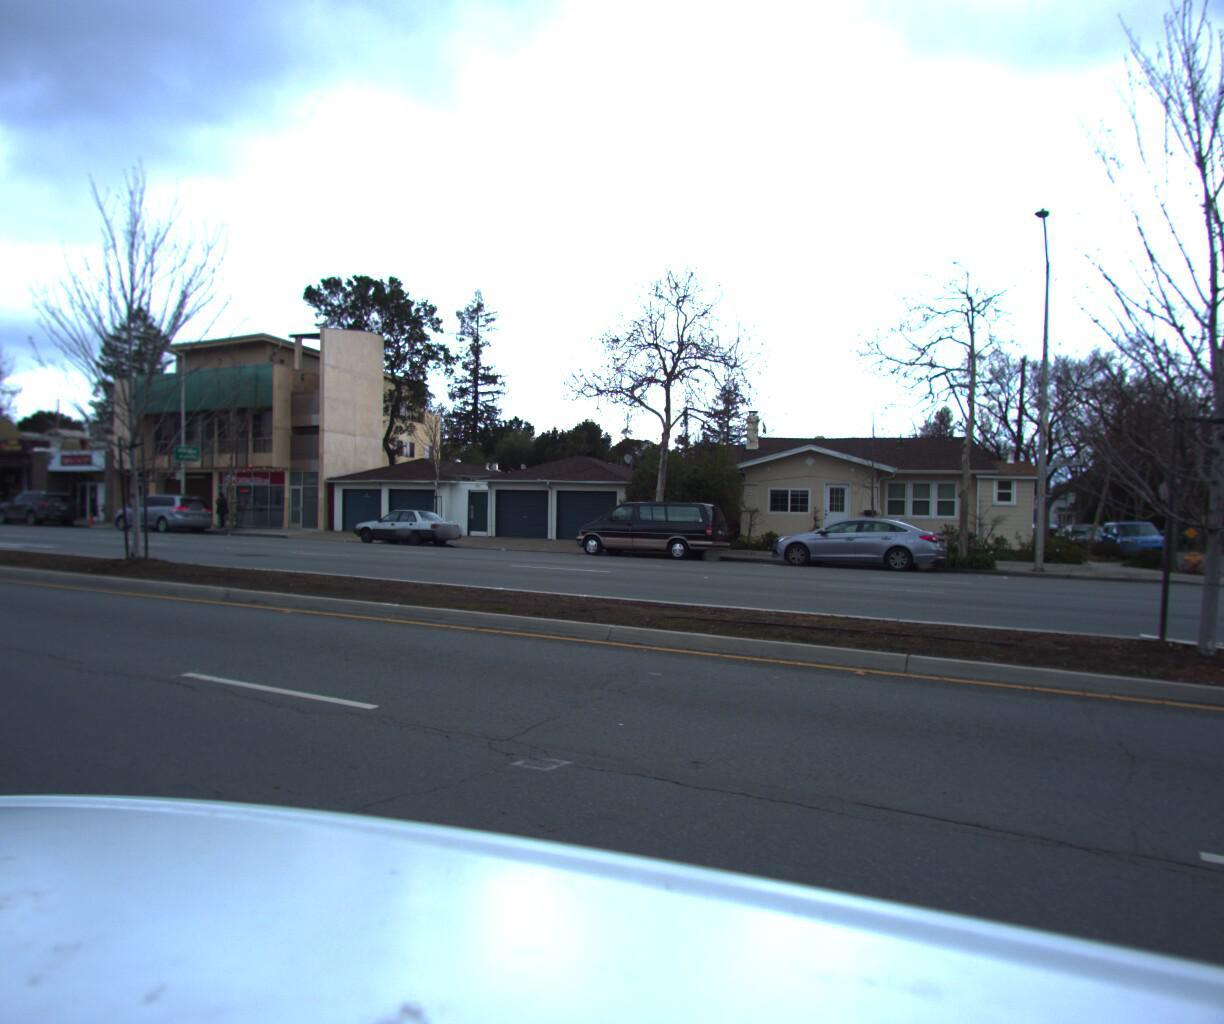car: (760, 508, 956, 568), (571, 495, 738, 556), (349, 503, 467, 545), (112, 488, 216, 532), (1094, 513, 1184, 559), (0, 486, 82, 523), (1054, 516, 1126, 554), (0, 487, 14, 518)
